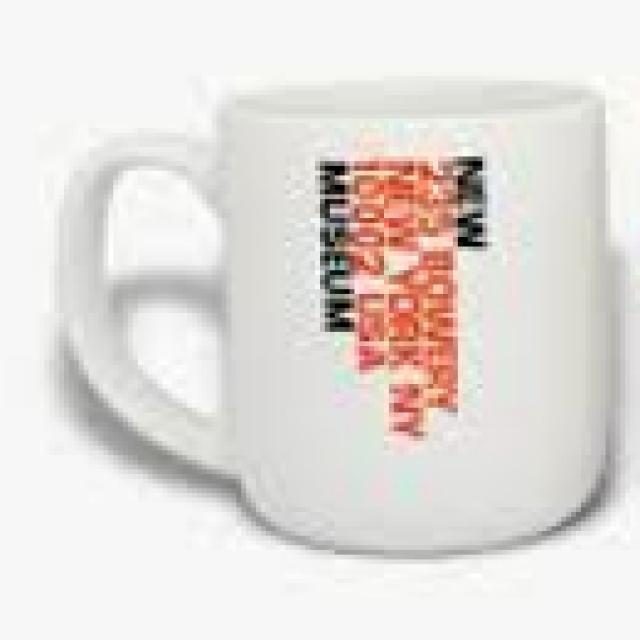taza: (57, 74, 610, 562)
